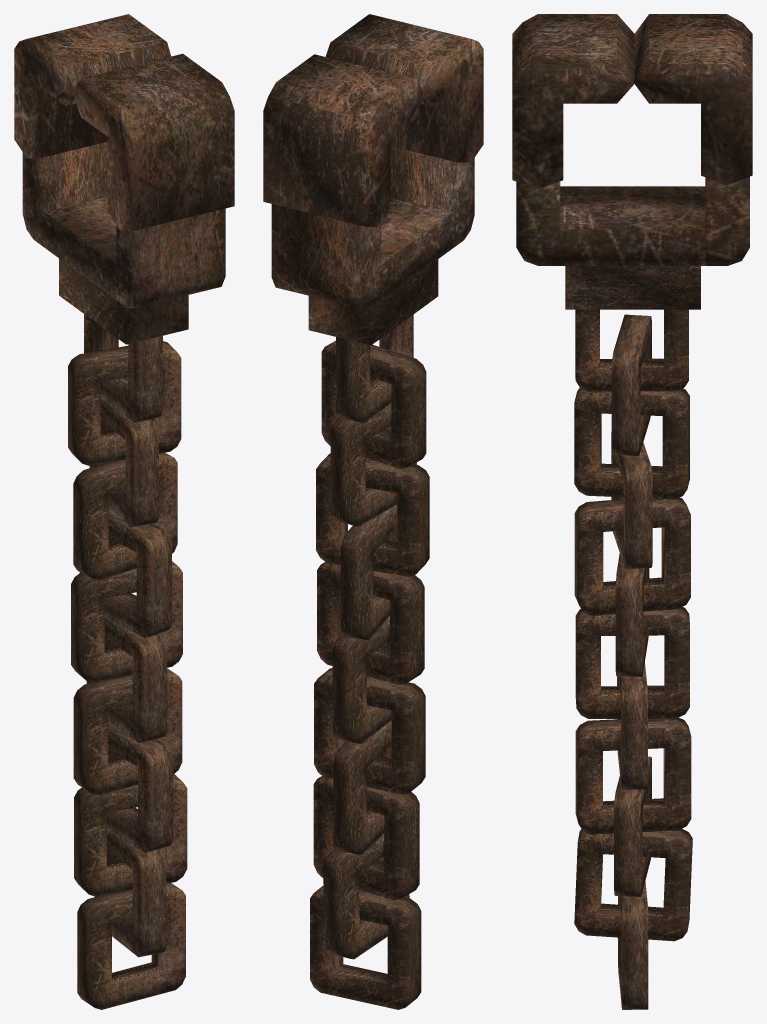
Rendered from Naruch.fbx.
The picture shows the model from 3 angles, left to right: view 1: azimuth 30°, elevation 25°; view 2: azimuth 150°, elevation 25°; view 3: azimuth 270°, elevation 25°; orthographic projection.
Visible parts, largest first — view 1: Cube.012, Cube.014, Cube.013; view 2: Cube.012, Cube.013, Cube.014; view 3: Cube.012, Cube.014, Cube.013.
Boxes of the visible parts, <box> form: Cube.012: <box>22,141,225,1009</box>; Cube.014: <box>72,53,234,230</box>; Cube.013: <box>14,14,171,158</box>; Cube.012: <box>271,146,474,1009</box>; Cube.013: <box>263,54,423,226</box>; Cube.014: <box>325,14,483,162</box>; Cube.012: <box>516,176,749,1009</box>; Cube.014: <box>512,14,634,188</box>; Cube.013: <box>634,14,752,185</box>.
Size of the model in its own units: 81.63 by 681 by 156.
